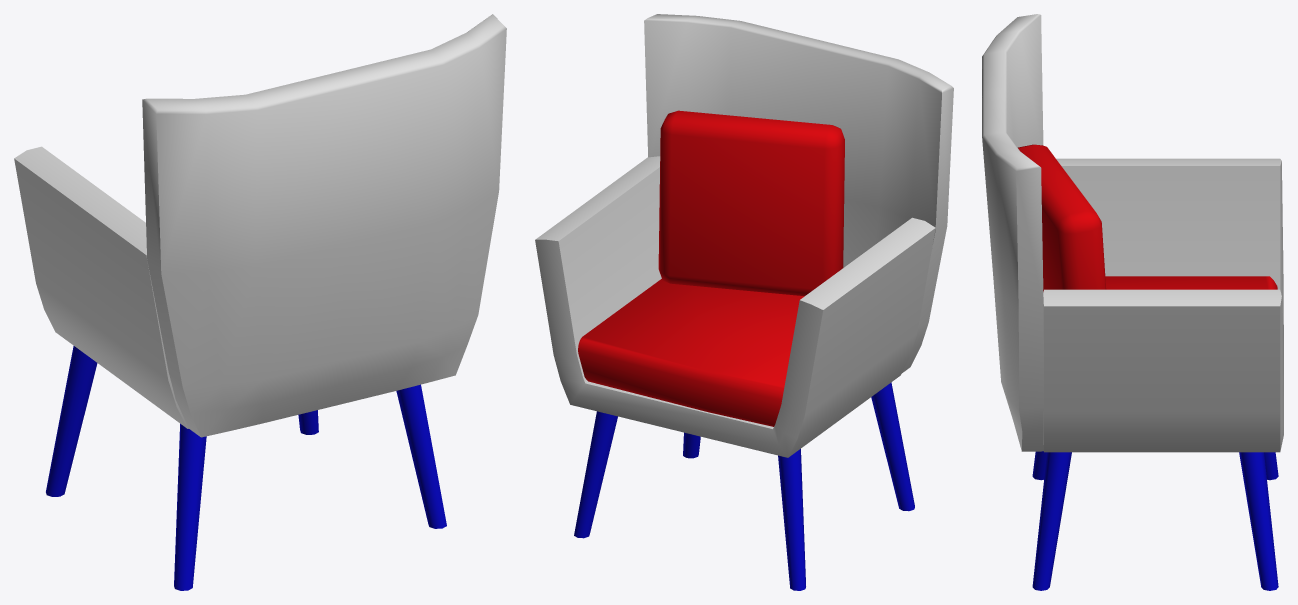
Rendered from sofa chair.fbx.
The picture shows the model from 3 angles, left to right: view 1: azimuth 30°, elevation 25°; view 2: azimuth 150°, elevation 25°; view 3: azimuth 270°, elevation 25°; orthographic projection. The views are drawn at different scales.
Visible parts, largest first — view 1: Arc; view 2: Arc; view 3: Arc.
Part boxes in pixels (x1,y1,x2,y2): Arc: (14, 14, 506, 590); Arc: (535, 14, 953, 590); Arc: (982, 14, 1283, 590).
Bounding box in the file's own units: 77.61 × 106 × 64.85.
